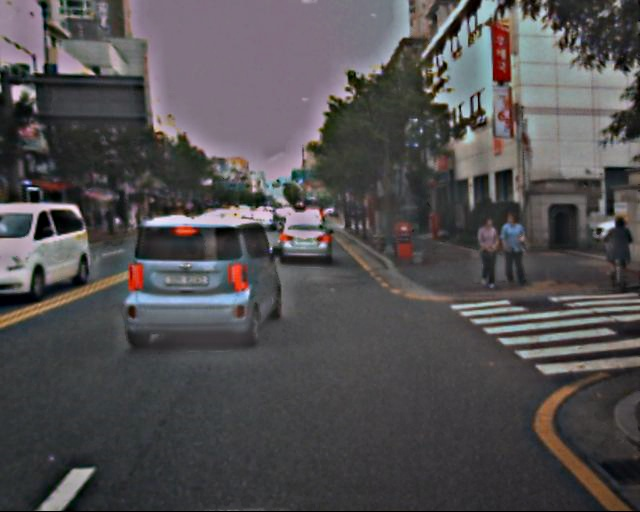person: (500, 210, 531, 286), (475, 217, 504, 287), (602, 218, 628, 281)
